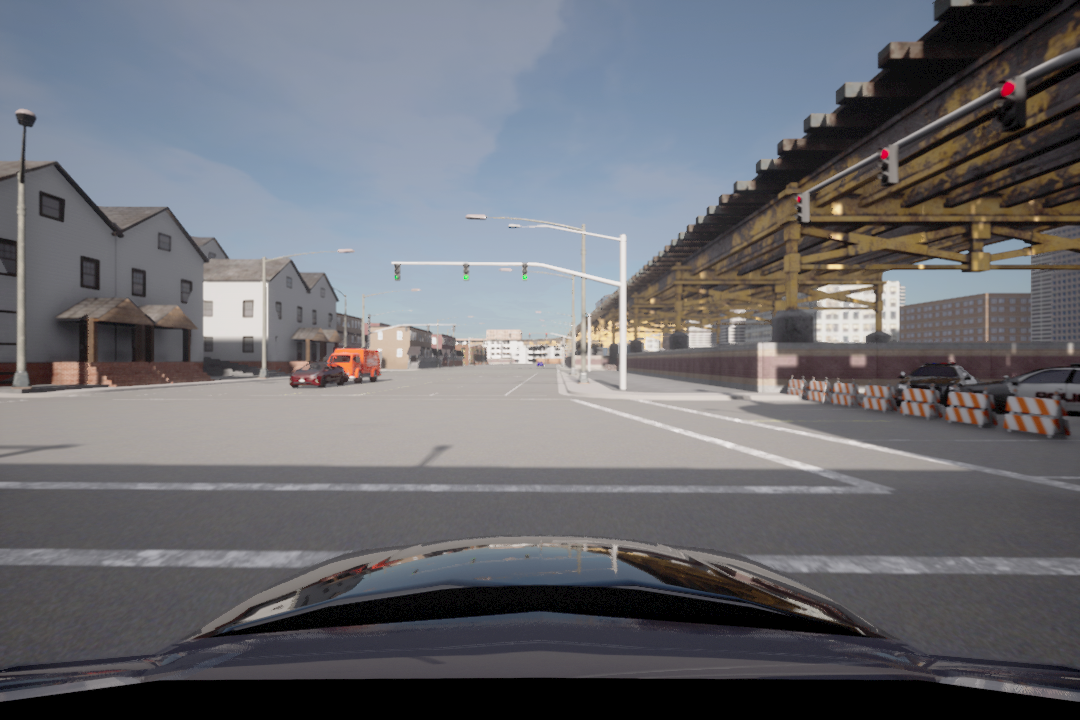TrafficLight: (997, 74, 1027, 141), (871, 144, 899, 192), (792, 191, 812, 226), (460, 258, 471, 287), (521, 261, 532, 283), (391, 263, 402, 283)
